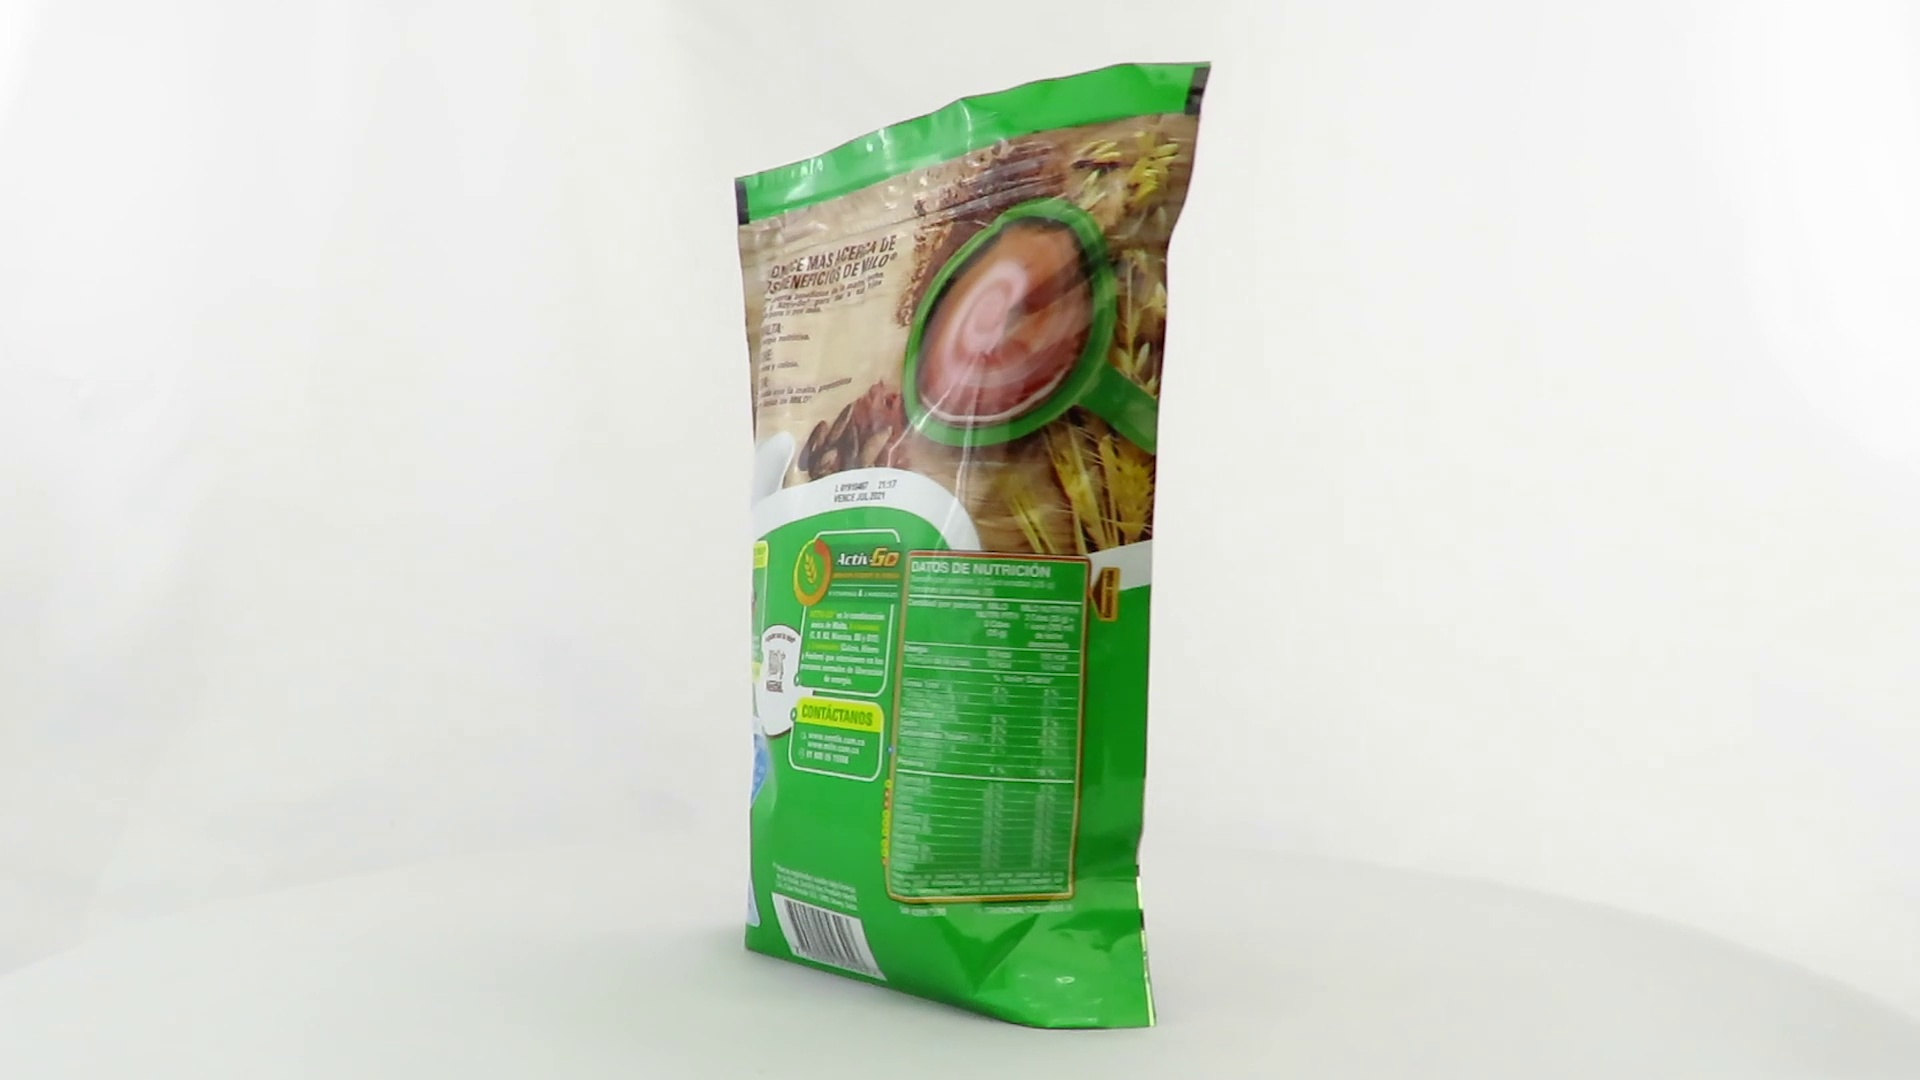COL0170205DYP50000: (729, 55, 1217, 1038)
